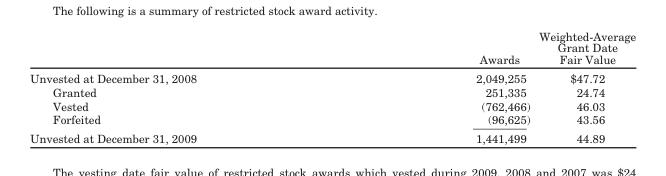table: (29, 29, 635, 144)
table column: (29, 29, 335, 144), (335, 29, 533, 144), (533, 29, 635, 144)
table column header: (29, 29, 635, 68)
table row: (29, 29, 635, 68), (29, 68, 635, 84), (29, 112, 635, 128), (29, 128, 635, 144), (29, 84, 635, 98), (29, 98, 635, 112)
